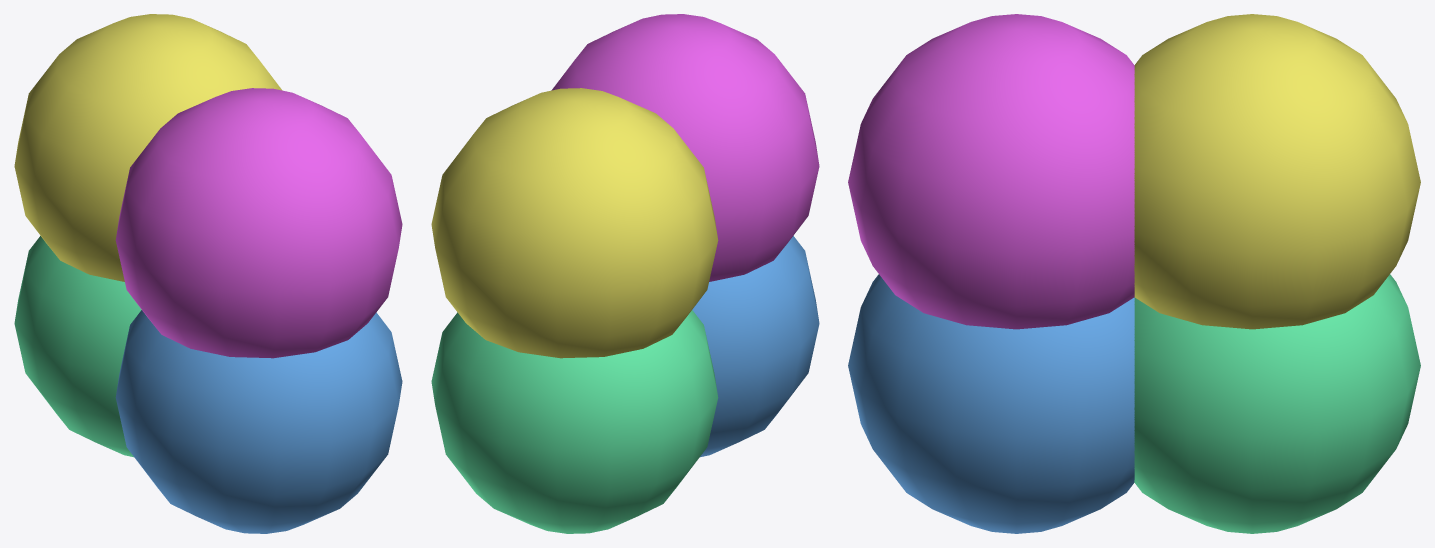
The picture shows the model from 3 angles, left to right: view 1: azimuth 30°, elevation 25°; view 2: azimuth 150°, elevation 25°; view 3: azimuth 270°, elevation 25°; orthographic projection. The views are drawn at different scales.
Visible parts, largest first — view 1: 구.3, 구, 구.2, 구.1; view 2: 구.2, 구.1, 구.3, 구; view 3: 구.3, 구.2, 구.1, 구.
Part boxes in pixels (x1,y1,x2,y2): 구.3: (115, 88, 402, 358); 구: (115, 310, 402, 533); 구.2: (14, 14, 282, 281); 구.1: (14, 236, 141, 457); 구.2: (431, 88, 718, 358); 구.1: (431, 310, 718, 533); 구.3: (551, 14, 819, 281); 구: (692, 236, 819, 457); 구.3: (848, 14, 1134, 329); 구.2: (1134, 14, 1420, 329); 구.1: (1134, 274, 1420, 533); 구: (848, 274, 1134, 533).
Size of the model in its own units: 2 by 3.2 by 3.4.
